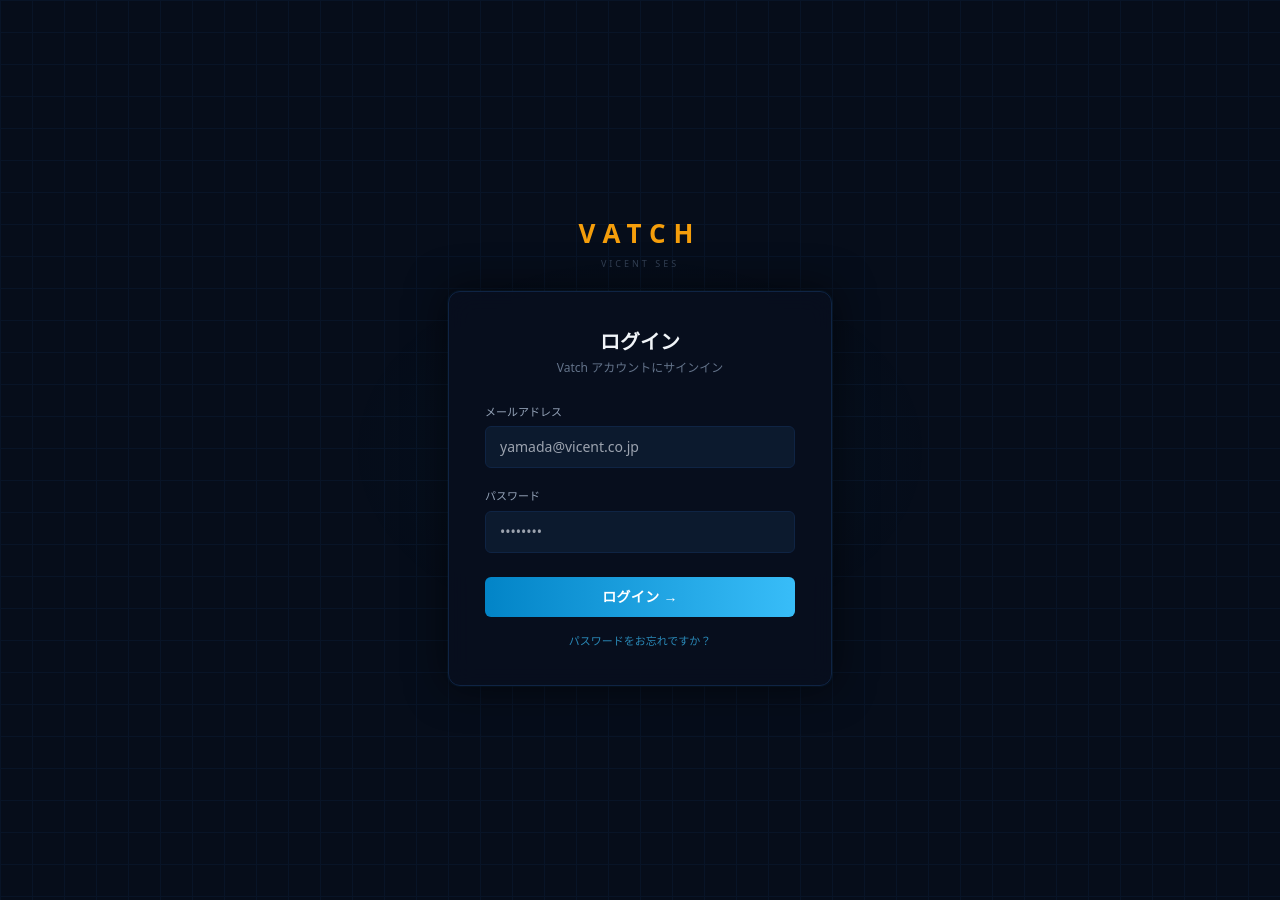
Scenario: 認証失敗時にエラーメッセージが表示される
Type "wrong@example.com" into the field with placeholder "yamada@vicent.co.jp".
click(640, 447); type("wrong@example.com")  # box [485, 426, 795, 468]
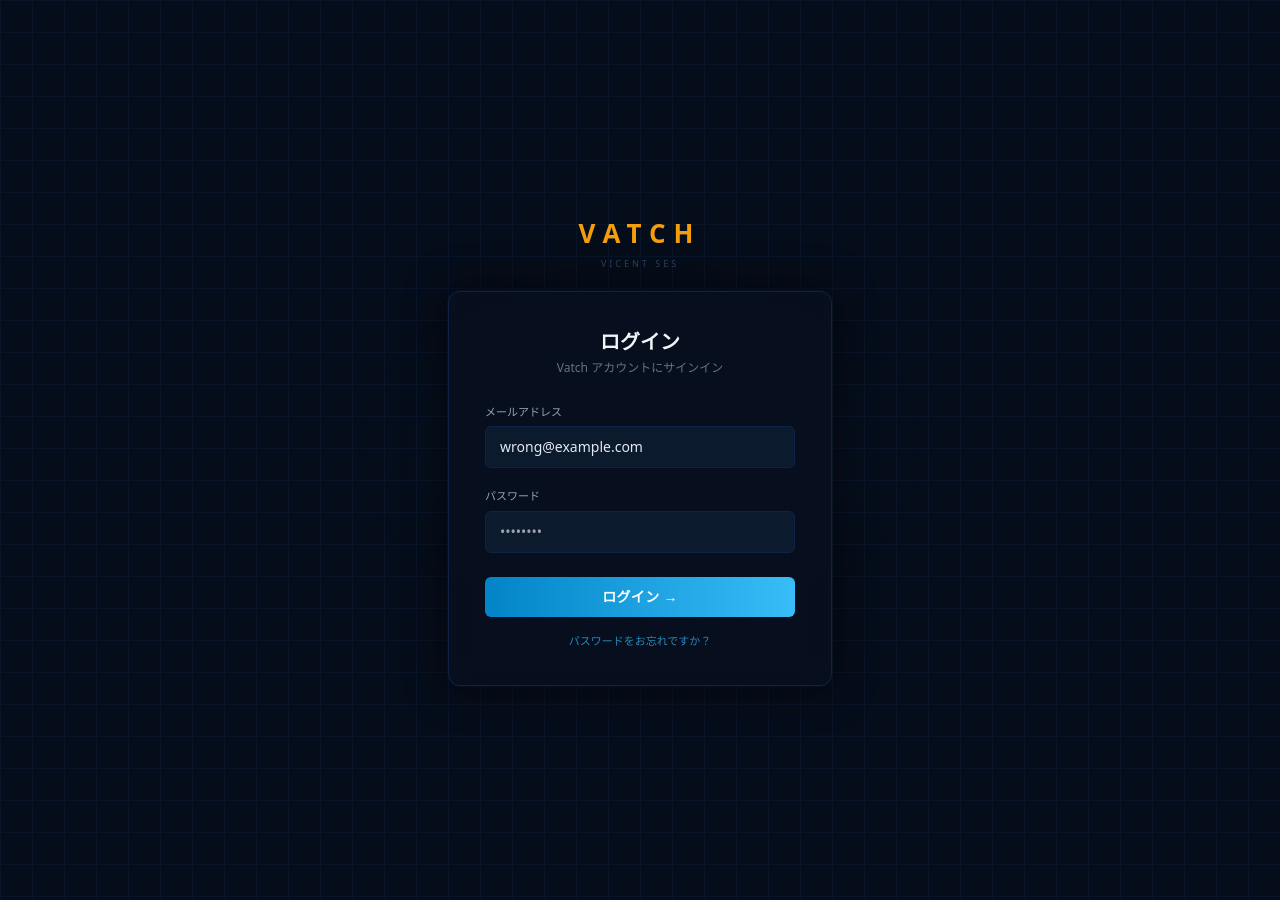
Type "wrongpass" into the password field with placeholder "••••••••".
click(640, 532); type("wrongpass")  # box [485, 510, 795, 552]
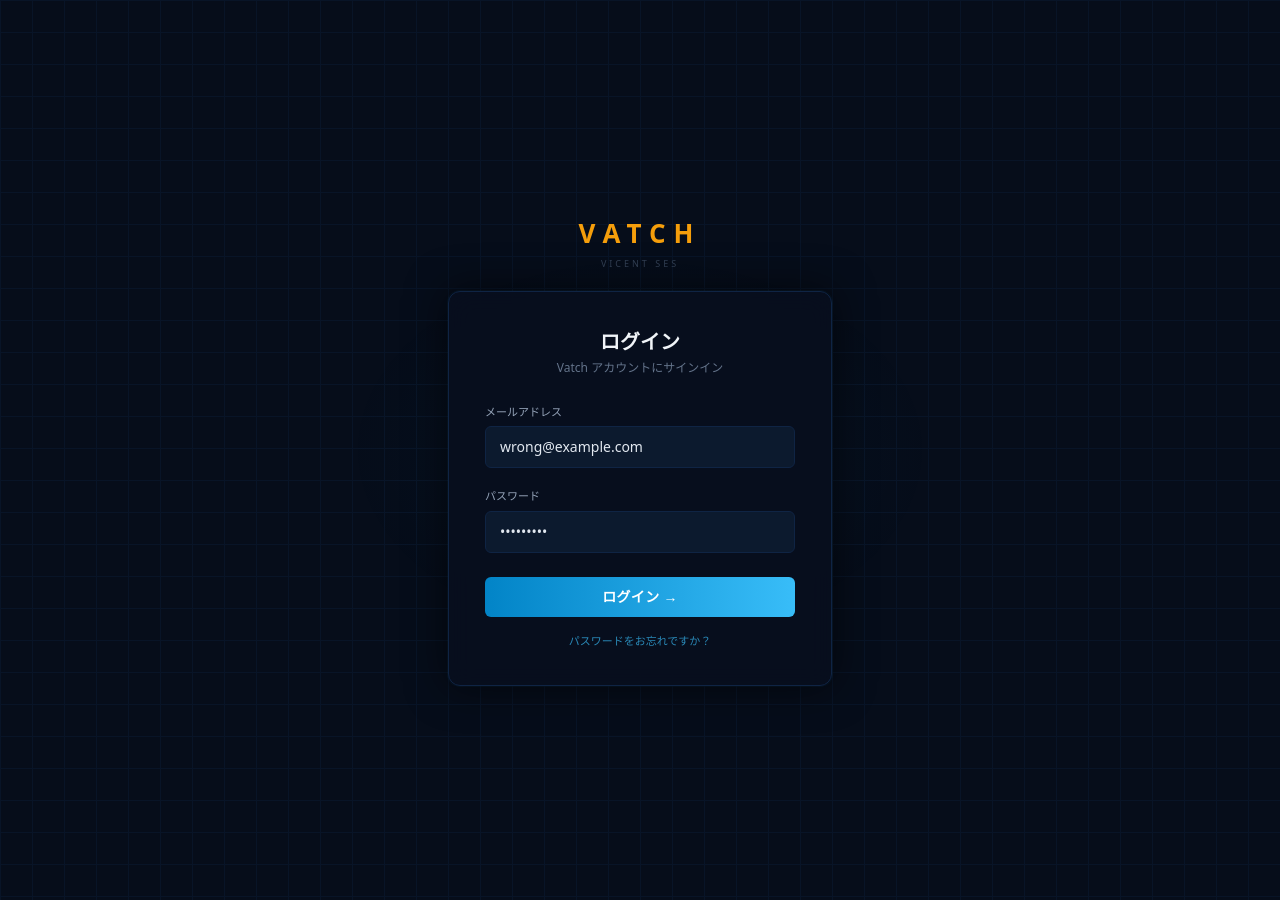
Click the button "ログイン →".
click(640, 596)  # box [485, 576, 795, 616]
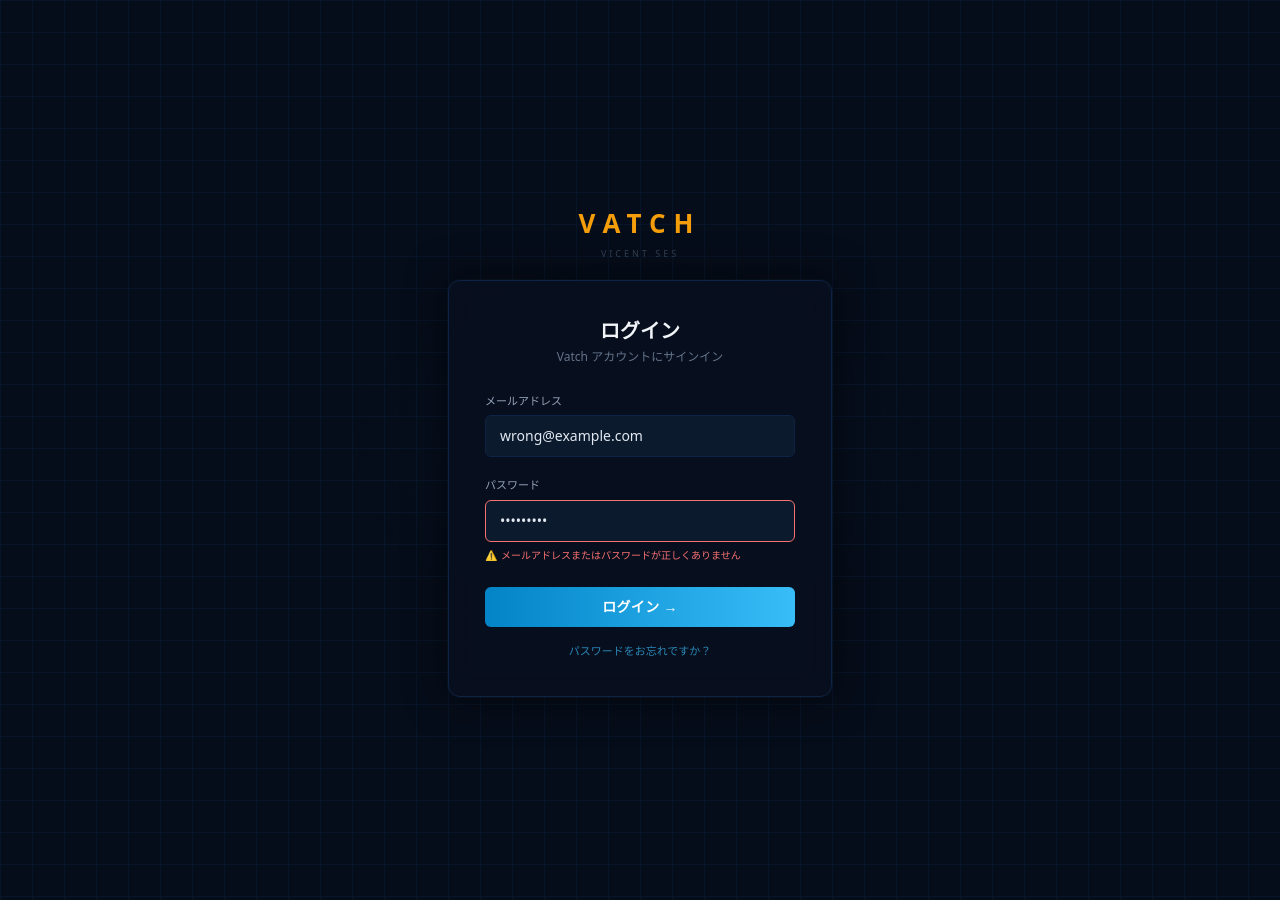
Expected: the text "メールアドレスまたはパスワードが正しくありません" is shown, [501, 548, 741, 563]
